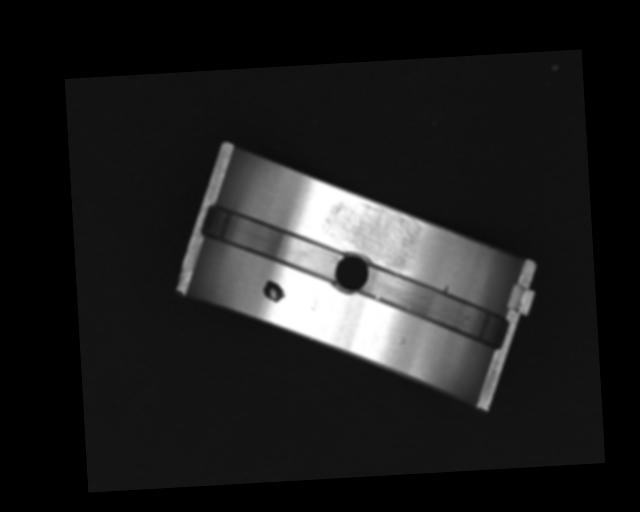blot: (261, 277, 286, 303)
bruise: (441, 283, 451, 296), (397, 335, 406, 345)
gap: (353, 254, 504, 358), (200, 188, 347, 292)
hole: (329, 250, 376, 297)
scratch: (318, 194, 424, 278)
